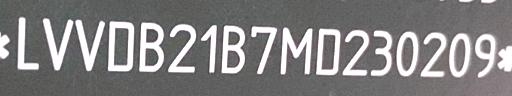letter: (40, 14, 74, 72), (278, 24, 314, 74), (74, 17, 106, 73), (106, 17, 136, 75), (167, 22, 197, 74), (248, 22, 278, 74), (417, 30, 447, 78), (16, 15, 42, 70), (138, 19, 164, 73), (341, 27, 369, 76), (220, 24, 246, 74), (394, 28, 420, 77), (314, 27, 340, 75), (446, 30, 472, 78), (369, 28, 393, 76), (473, 30, 497, 77), (198, 20, 218, 74)
